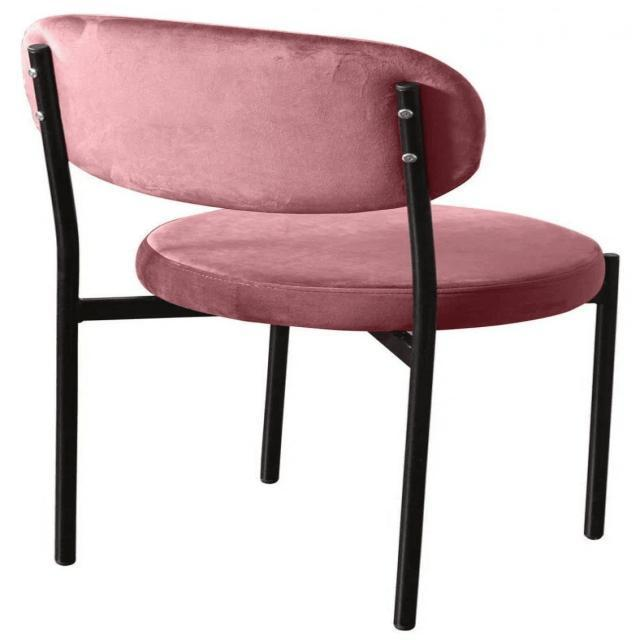chair: (11, 6, 634, 634), (26, 11, 606, 332)
